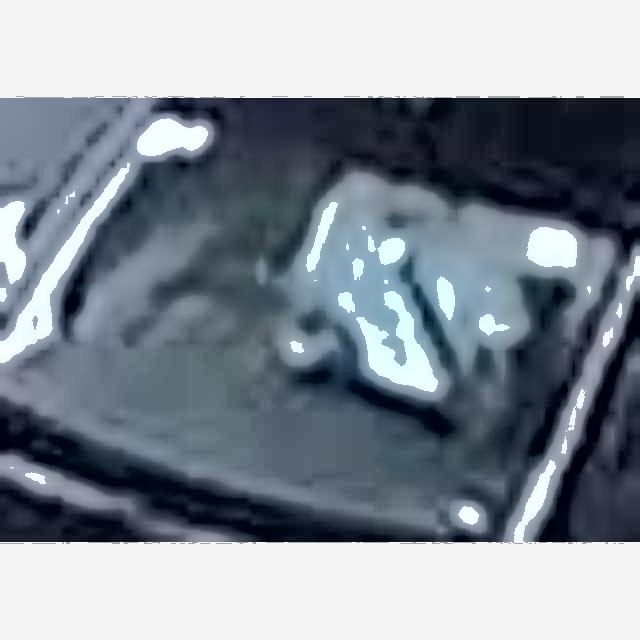pakai: (281, 192, 507, 457)
